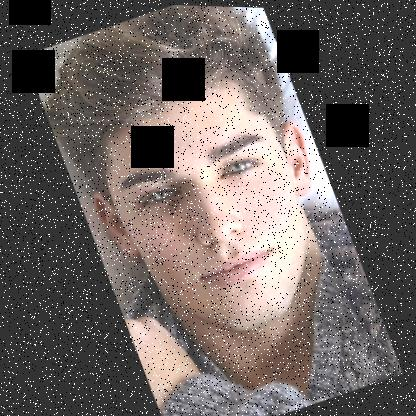Male: (58, 48, 358, 363)
